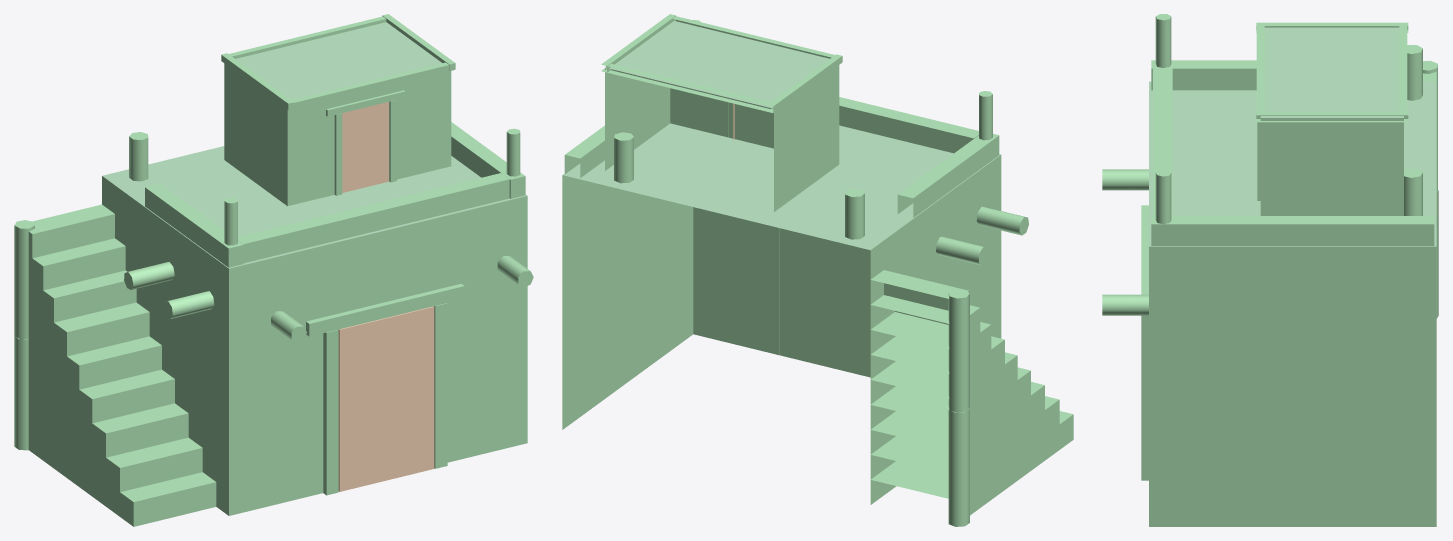
The picture shows the model from 3 angles, left to right: view 1: azimuth 30°, elevation 25°; view 2: azimuth 150°, elevation 25°; view 3: azimuth 270°, elevation 25°; orthographic projection. The views are drawn at different scales.
Visible parts, largest first — view 1: Object11; view 2: Object11; view 3: Object11.
Part boxes in pixels (<box>): Object11: <box>14,14,533,526</box>; Object11: <box>562,14,1073,526</box>; Object11: <box>1102,14,1438,526</box>.
Bounding box in the file's own units: 486 × 420 × 321.
